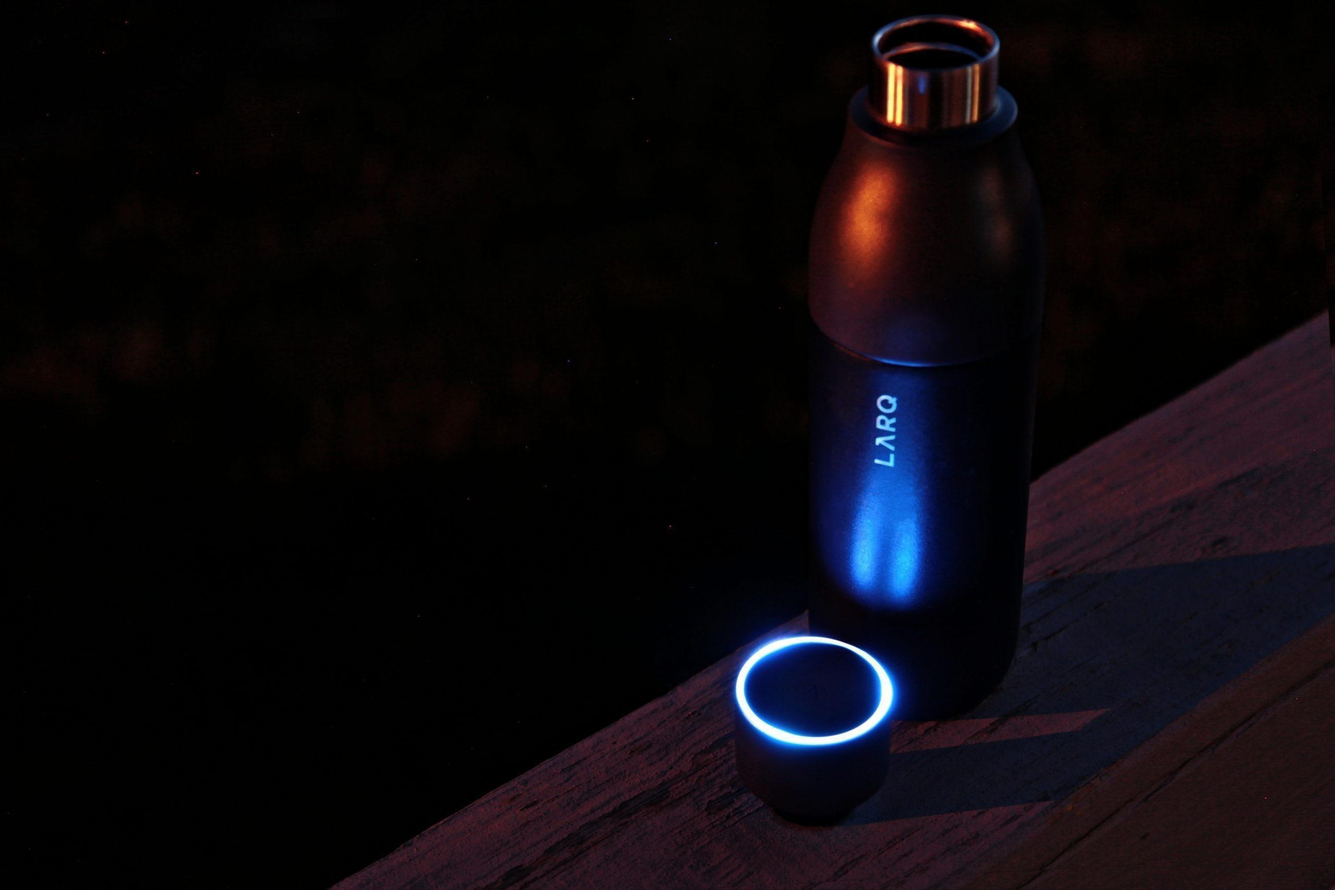gym bottle: (800, 13, 1050, 726)
